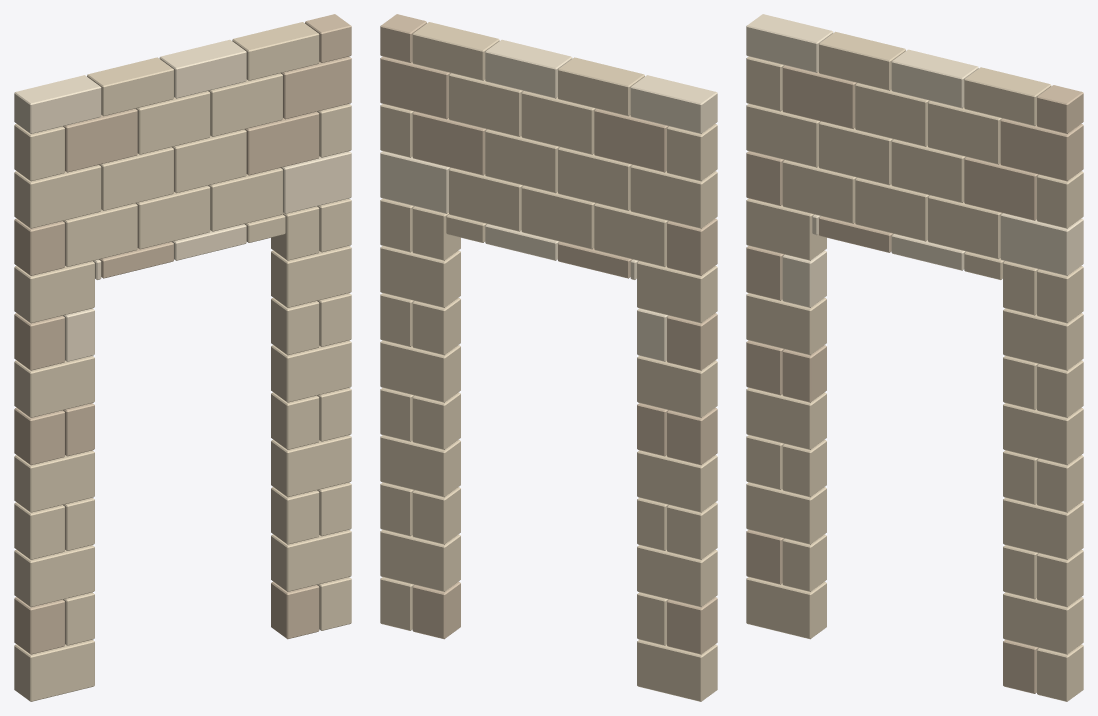
The model's file is wall_door.glb.
3 views of the same model, side by side, from view 1: azimuth 30°, elevation 25°; view 2: azimuth 150°, elevation 25°; view 3: azimuth 330°, elevation 25° (orthographic).
Visible parts, largest first — view 1: wall_door__body__plaster, wall_door__body__plaster3, wall_door__body__plaster2; view 2: wall_door__body__plaster, wall_door__body__plaster3, wall_door__body__plaster2; view 3: wall_door__body__plaster, wall_door__body__plaster3, wall_door__body__plaster2.
Part boxes in pixels (x1,y1,x2,y2): wall_door__body__plaster: (14, 22, 351, 701); wall_door__body__plaster3: (14, 14, 351, 654); wall_door__body__plaster2: (14, 39, 351, 361); wall_door__body__plaster: (380, 22, 717, 701); wall_door__body__plaster3: (380, 14, 717, 654); wall_door__body__plaster2: (380, 39, 717, 361); wall_door__body__plaster: (746, 31, 1083, 701); wall_door__body__plaster3: (746, 65, 1083, 693); wall_door__body__plaster2: (746, 14, 1083, 307).
Size of the model in its own units: 1.99 by 3.54 by 0.18.
